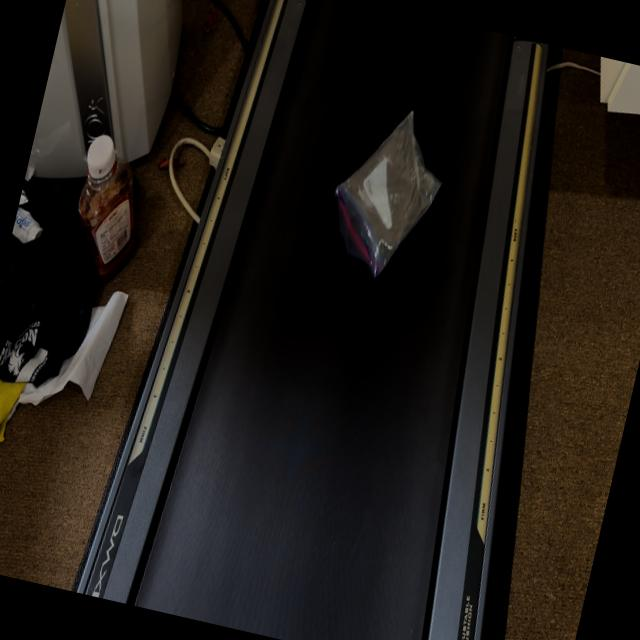Trash: (309, 100, 482, 324)
